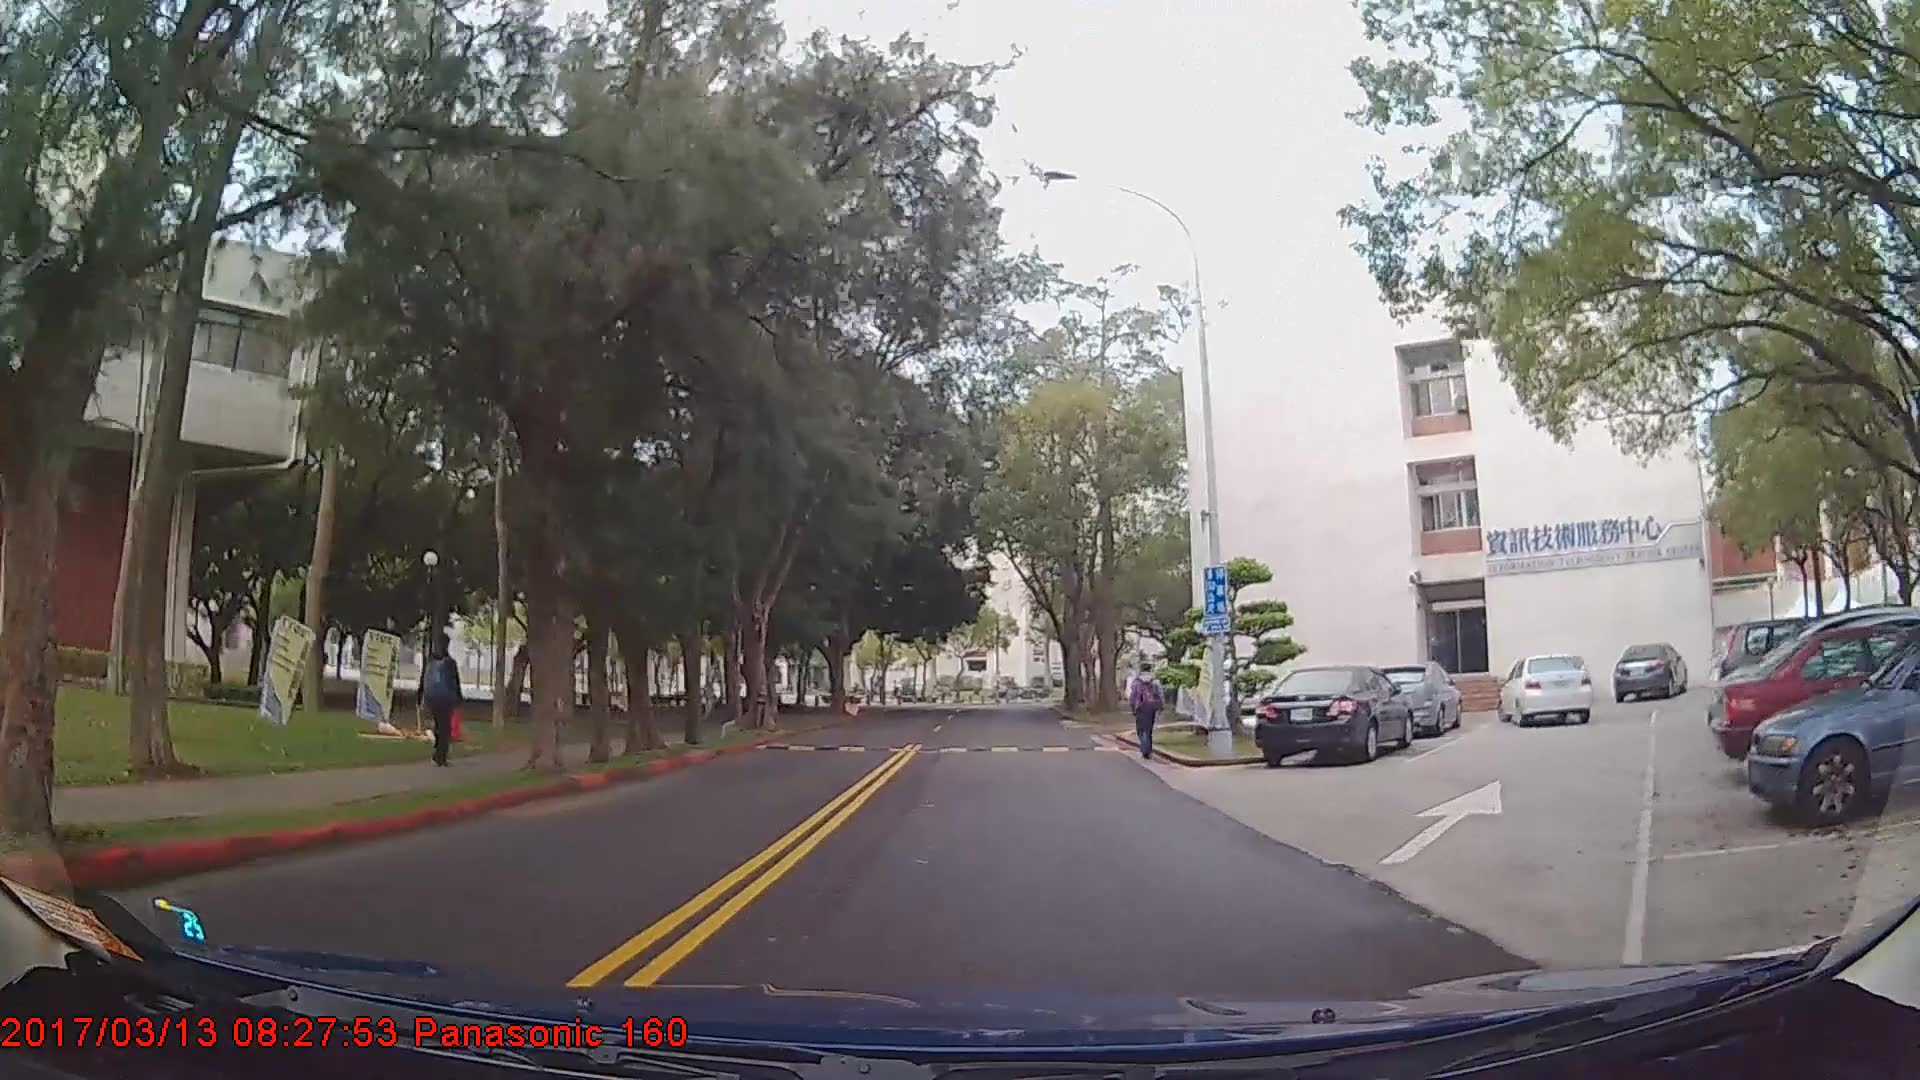pedestrian: (416, 644, 461, 777), (1131, 662, 1167, 765)
vehicle: (1745, 624, 1919, 825), (1710, 621, 1920, 778), (1252, 663, 1412, 763), (1367, 658, 1464, 737), (1499, 653, 1594, 727), (1611, 640, 1687, 701)
